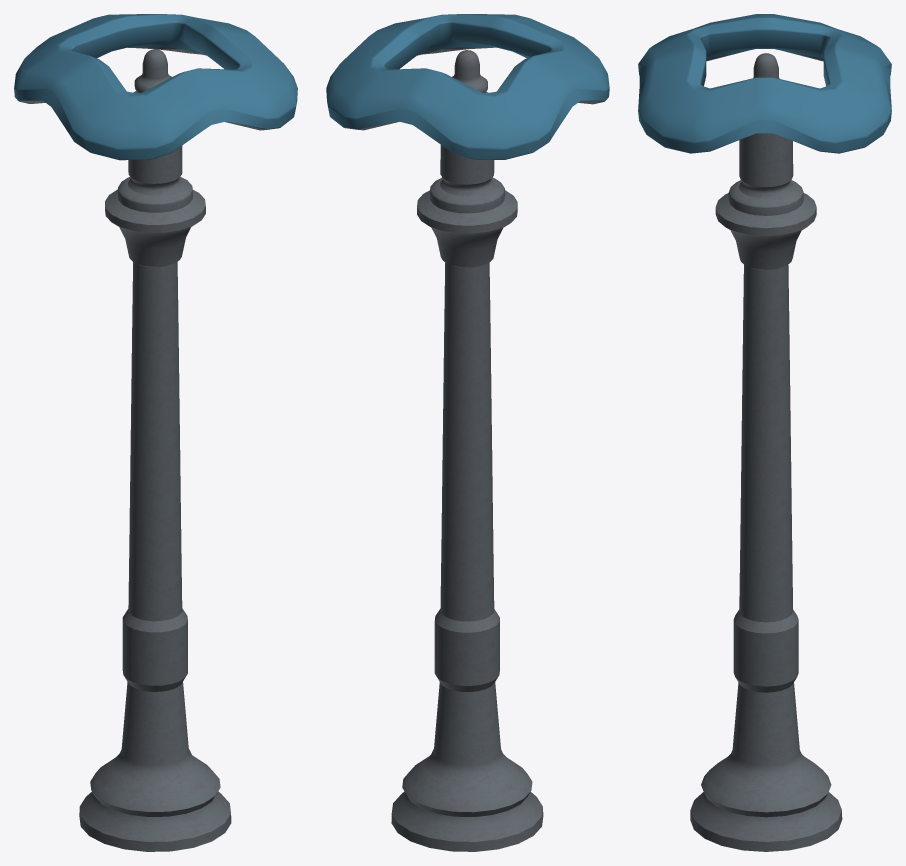
The model's file is Streetlamp_Big.fbx.
The picture shows the model from 3 angles, left to right: view 1: azimuth 30°, elevation 25°; view 2: azimuth 150°, elevation 25°; view 3: azimuth 270°, elevation 25°; orthographic projection.
Parts seen in each view (by area): view 1: Streetlamp, Light_Soft; view 2: Streetlamp, Light_Soft; view 3: Streetlamp, Light_Soft.
Boxes of the visible parts, bbox=[...] form: Streetlamp: bbox=[79, 49, 231, 851]; Light_Soft: bbox=[14, 14, 297, 160]; Streetlamp: bbox=[391, 50, 543, 851]; Light_Soft: bbox=[326, 14, 609, 159]; Streetlamp: bbox=[690, 53, 842, 851]; Light_Soft: bbox=[638, 14, 891, 153].
Size of what is drawn, in the model's own units: 1.64 by 5.51 by 1.64.
